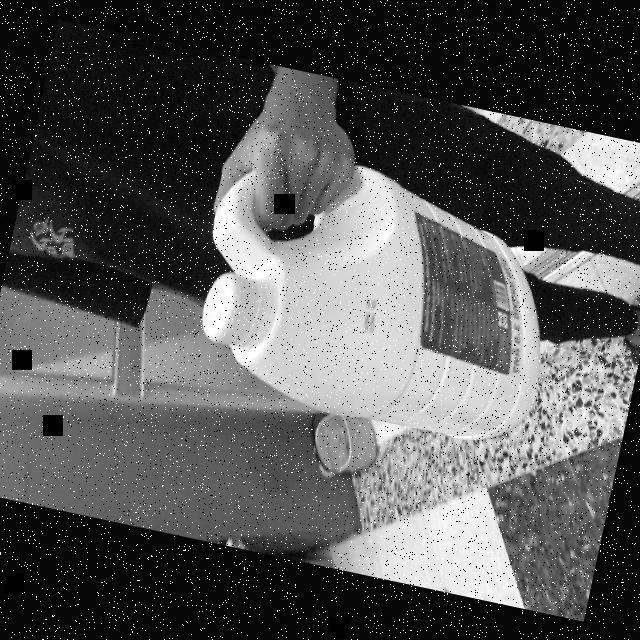chemical_plastic_gallon: (176, 132, 579, 459)
